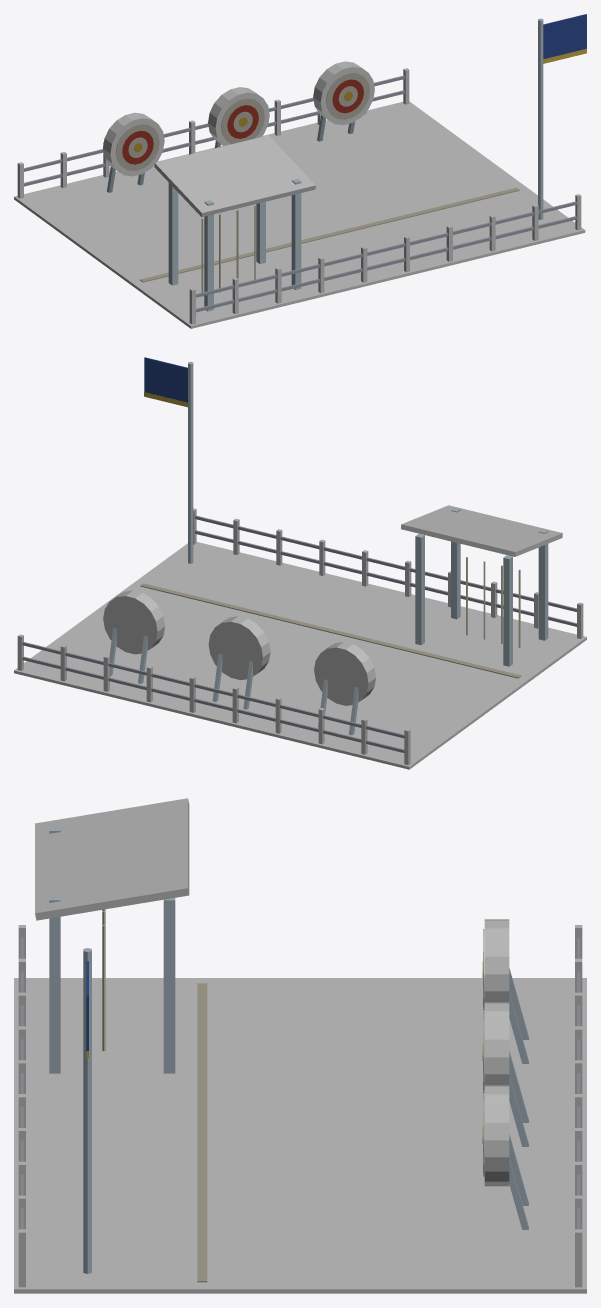
The model's file is site_schiessplatz.glb.
3 renders of one model, top to bottom at view 1: azimuth 30°, elevation 25°; view 2: azimuth 150°, elevation 25°; view 3: azimuth 270°, elevation 25°, orthographic. The views are drawn at different scales.
Parts seen in each view (by area): view 1: site_schiessplatz; view 2: site_schiessplatz; view 3: site_schiessplatz.
Boxes of the visible parts, x1,y1,x2,y2 form: site_schiessplatz: (14,14,586,328); site_schiessplatz: (14,357,586,769); site_schiessplatz: (14,798,586,1293).
Size of the model in its own units: 9.55 by 4.44 by 7.
